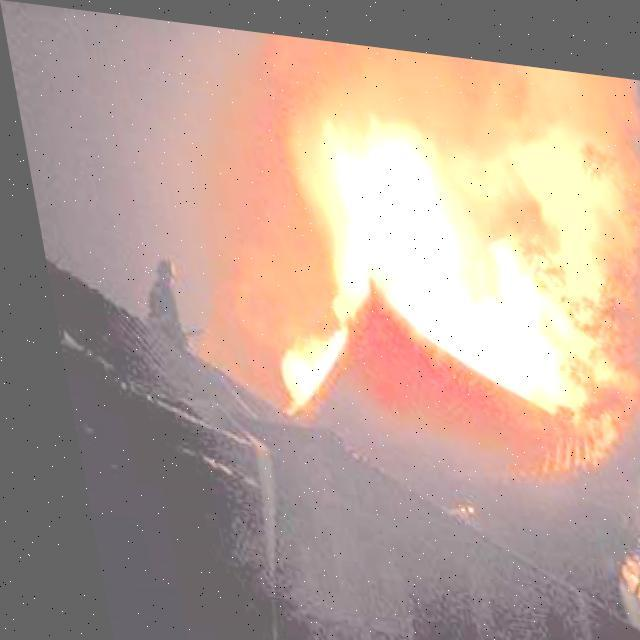Fire: (221, 83, 639, 472)
